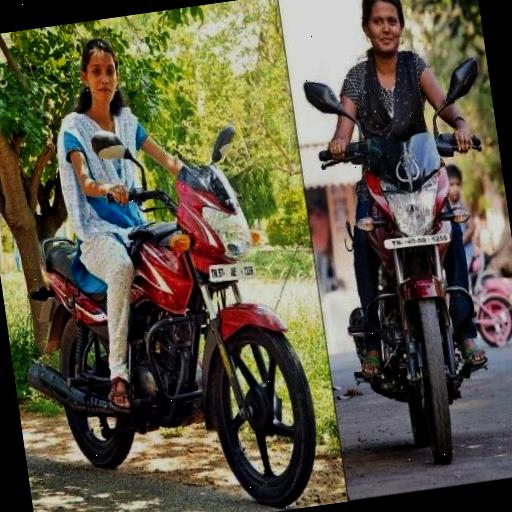no helmet: (16, 3, 306, 502), (285, 0, 512, 439)
